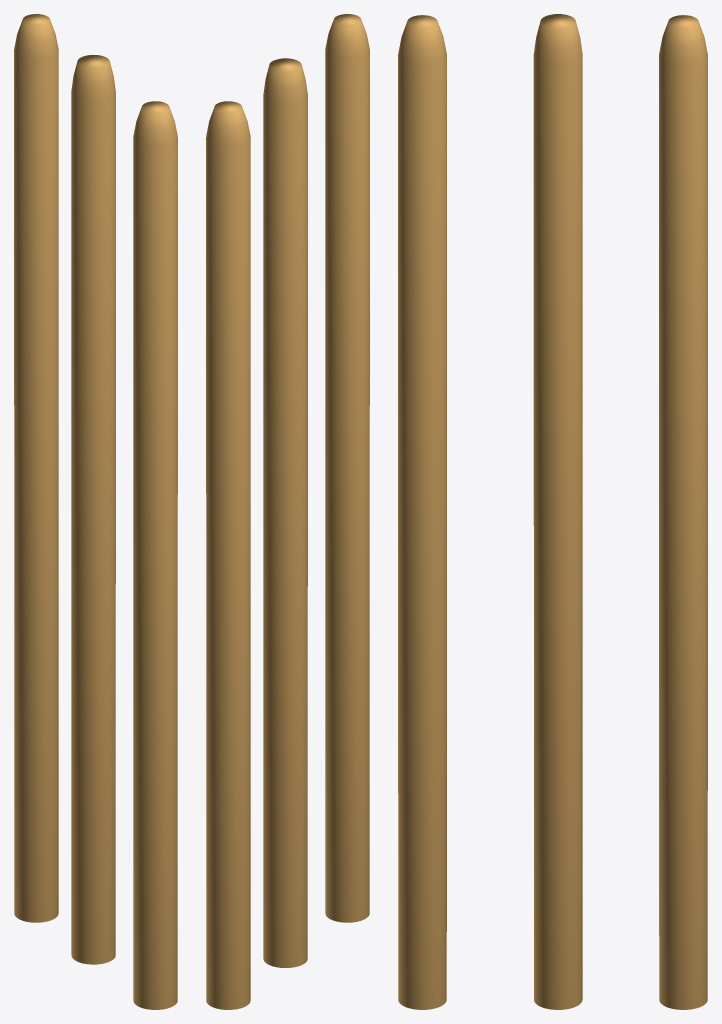
File: stumps.fbx
3 views of the same model, side by side, from view 1: azimuth 30°, elevation 25°; view 2: azimuth 150°, elevation 25°; view 3: azimuth 270°, elevation 25° (orthographic). The views are drawn at different scales.
Visible parts, largest first — view 1: Cylinder.001; view 2: Cylinder.001; view 3: Cylinder.001.
Boxes of the visible parts, x1,y1,x2,y2 form: Cylinder.001: [14, 14, 177, 1009]; Cylinder.001: [206, 14, 369, 1009]; Cylinder.001: [398, 14, 707, 1009].
Size of the model in its own units: 7.5 by 165 by 47.51.
